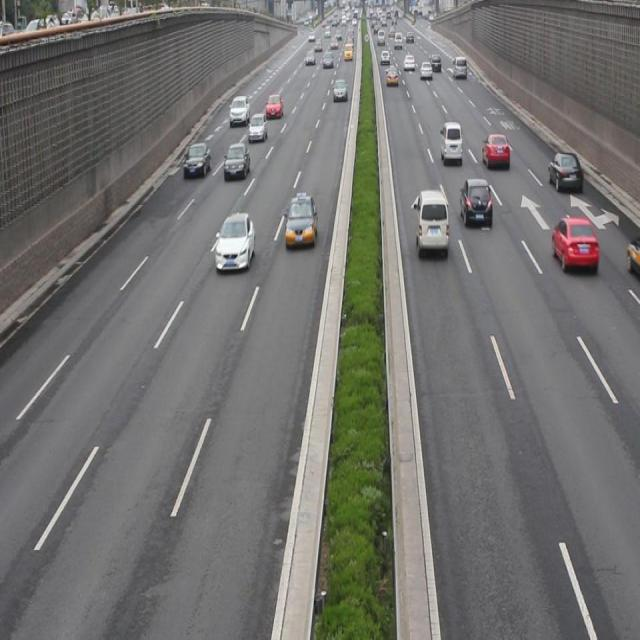car: (551, 213, 596, 273), (215, 210, 255, 274), (284, 195, 316, 248), (459, 176, 492, 227), (548, 150, 582, 195), (184, 140, 211, 182), (481, 131, 509, 171), (223, 142, 250, 183), (246, 111, 267, 143)
truck: (414, 187, 448, 254), (440, 120, 462, 164)
